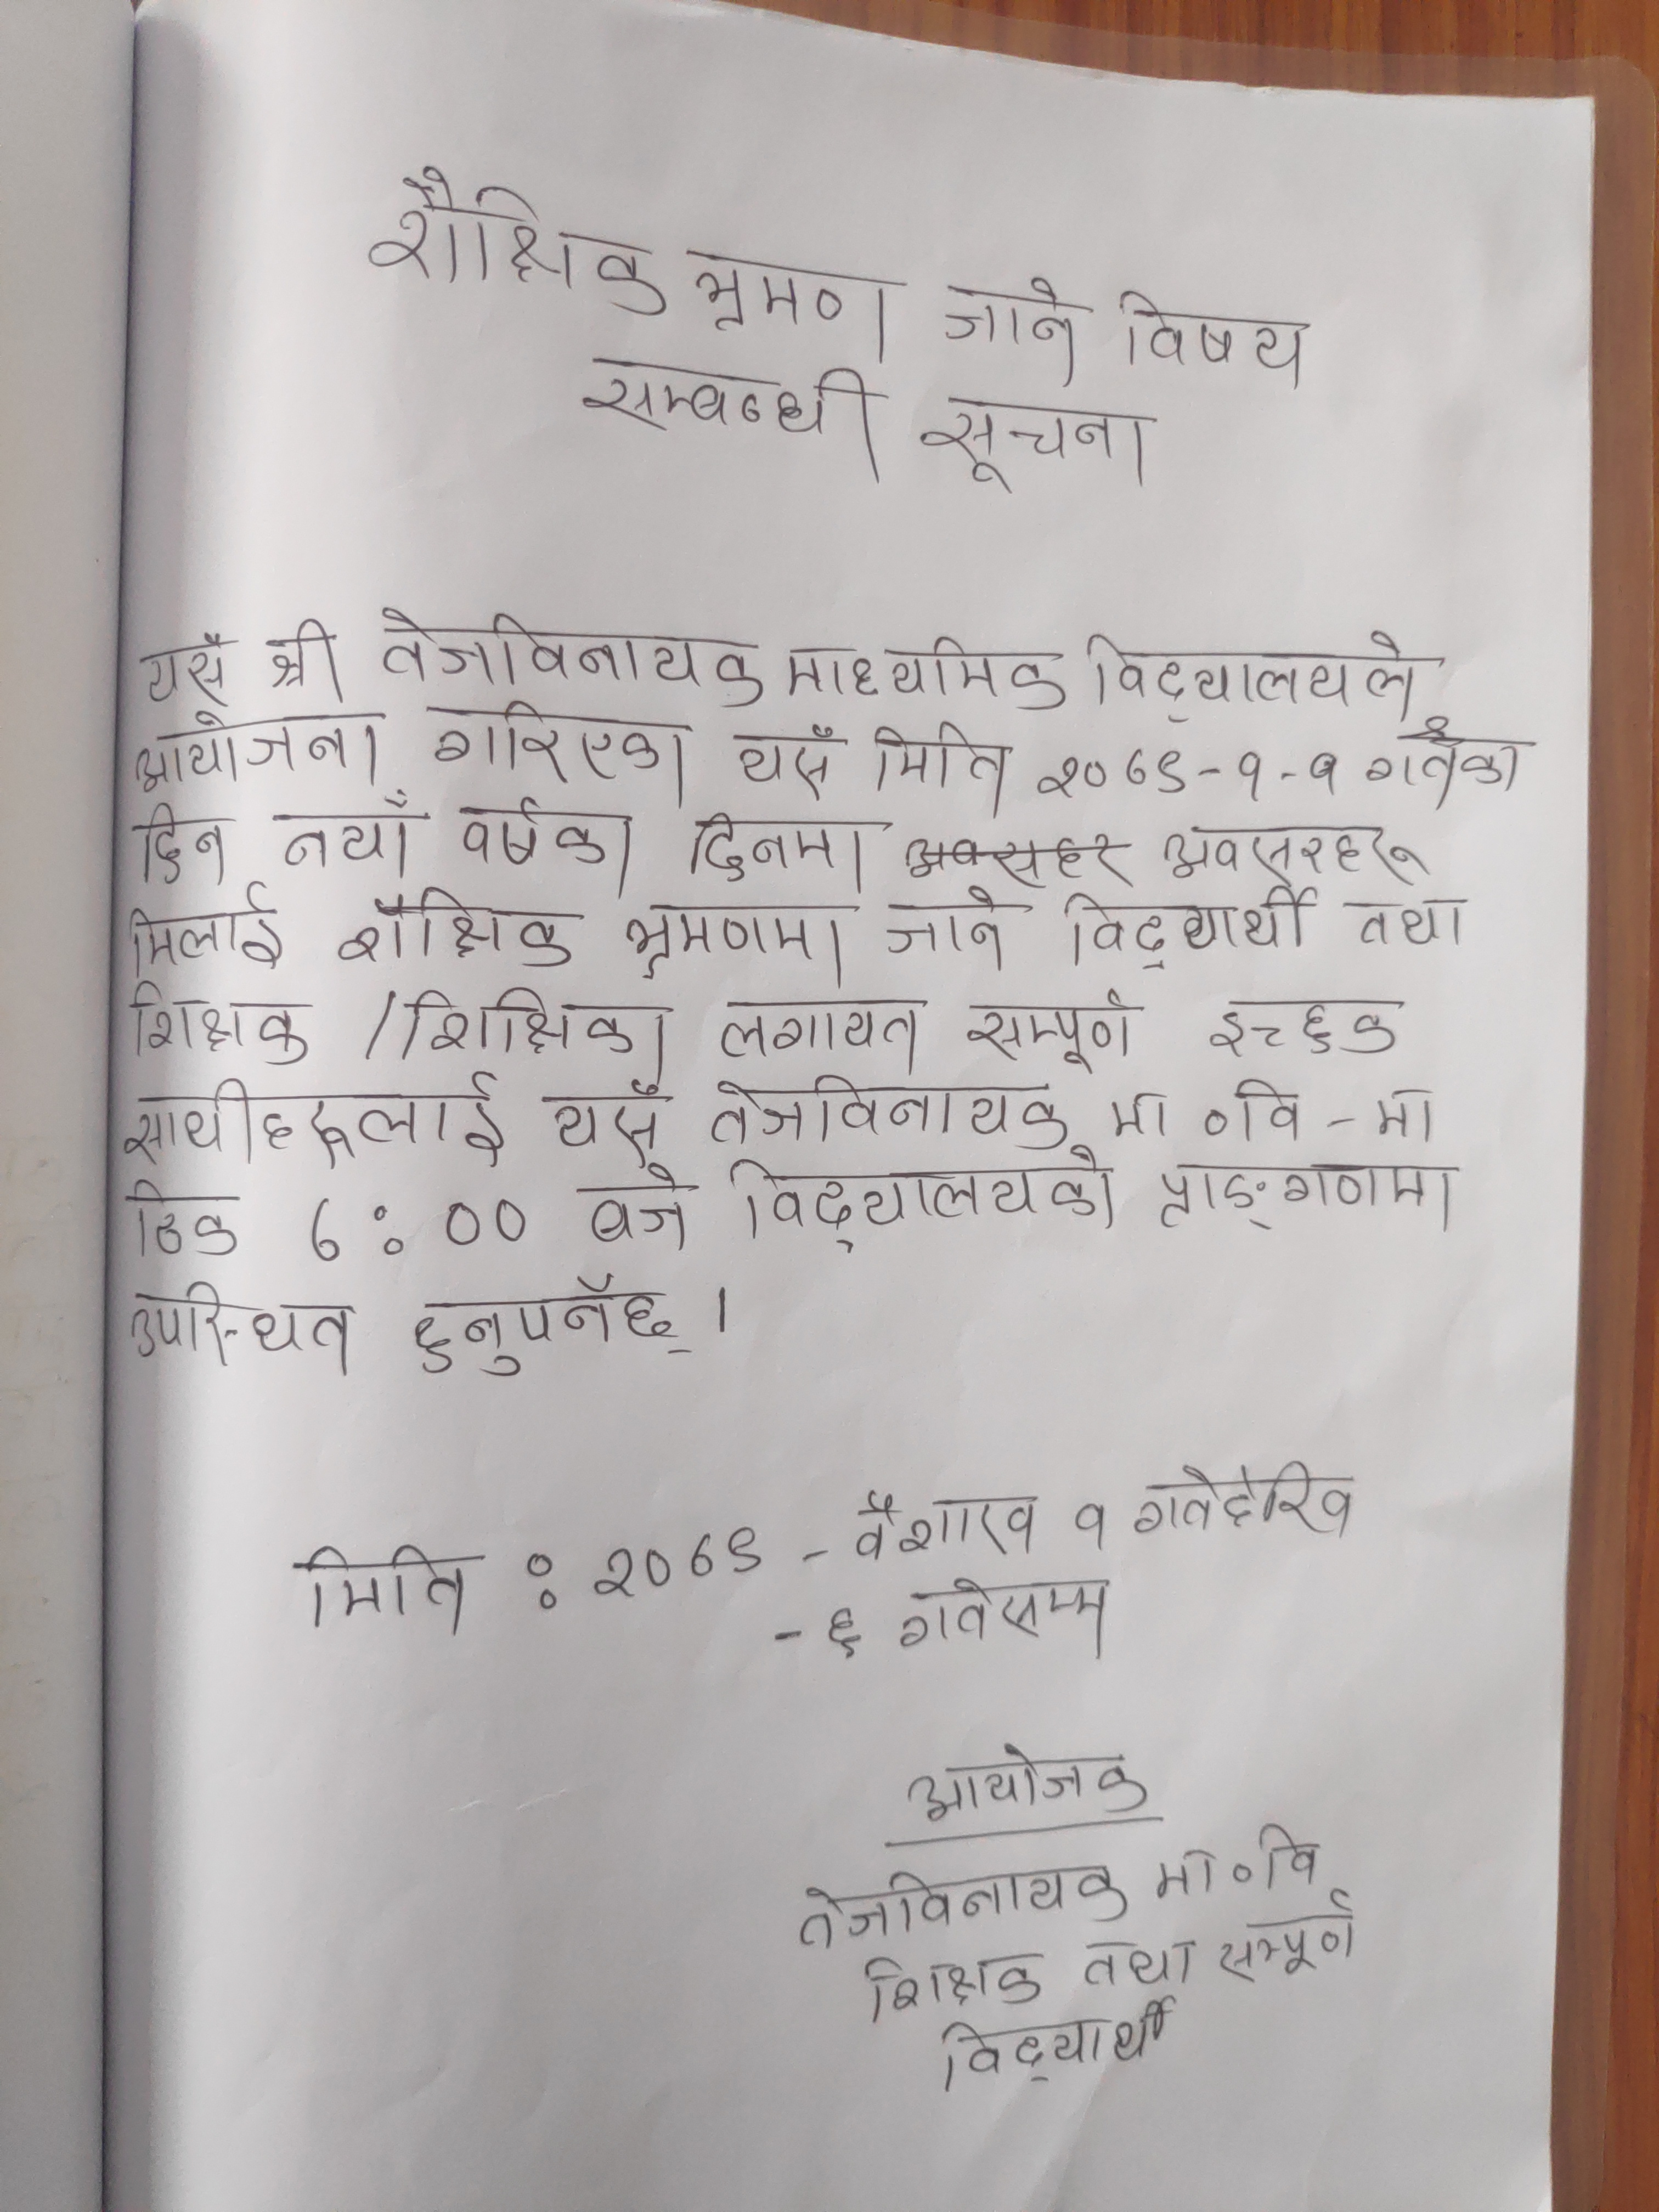text: (364, 167, 678, 331), (577, 343, 884, 484), (368, 601, 765, 707), (725, 1153, 1121, 1251), (122, 1075, 516, 1169), (1082, 627, 1422, 719), (793, 1858, 1129, 1944), (410, 1270, 690, 1371), (913, 387, 1152, 505), (708, 1073, 1072, 1150), (1051, 873, 1312, 975), (422, 697, 695, 787), (784, 627, 1066, 714), (1152, 1158, 1476, 1233), (932, 2003, 1178, 2099), (396, 984, 673, 1068), (678, 247, 889, 357), (120, 1275, 356, 1372), (892, 1743, 1155, 1824), (1126, 1458, 1356, 1548), (681, 798, 882, 900), (335, 885, 579, 968), (1112, 291, 1312, 390), (627, 894, 854, 981), (1159, 813, 1422, 888), (136, 714, 382, 792), (305, 1188, 530, 1271), (1028, 744, 1345, 803), (1195, 1075, 1445, 1150), (894, 1575, 1114, 1658), (120, 979, 310, 1073), (291, 1548, 491, 1637), (709, 991, 927, 1071), (448, 794, 641, 883), (847, 1480, 1042, 1568), (934, 272, 1087, 381), (579, 1524, 775, 1608), (859, 1944, 1053, 2026), (958, 991, 1150, 1073), (1208, 989, 1410, 1061), (122, 890, 289, 972), (1361, 723, 1527, 803), (1215, 1898, 1368, 1982), (866, 714, 1006, 805), (272, 791, 416, 874), (1150, 1824, 1323, 1893), (575, 1165, 708, 1251), (122, 1177, 244, 1264), (547, 1080, 671, 1162), (730, 716, 849, 799), (878, 888, 1011, 961), (132, 799, 232, 888), (1344, 890, 1473, 953), (260, 611, 345, 698), (136, 639, 235, 707), (1077, 1933, 1197, 1989), (1100, 1089, 1175, 1148), (821, 1602, 870, 1665), (1066, 1501, 1114, 1552)
